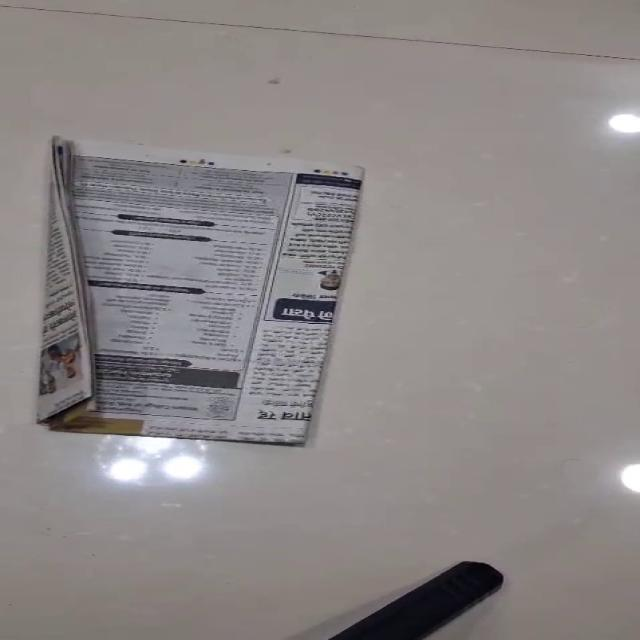paper: (38, 136, 366, 447)
